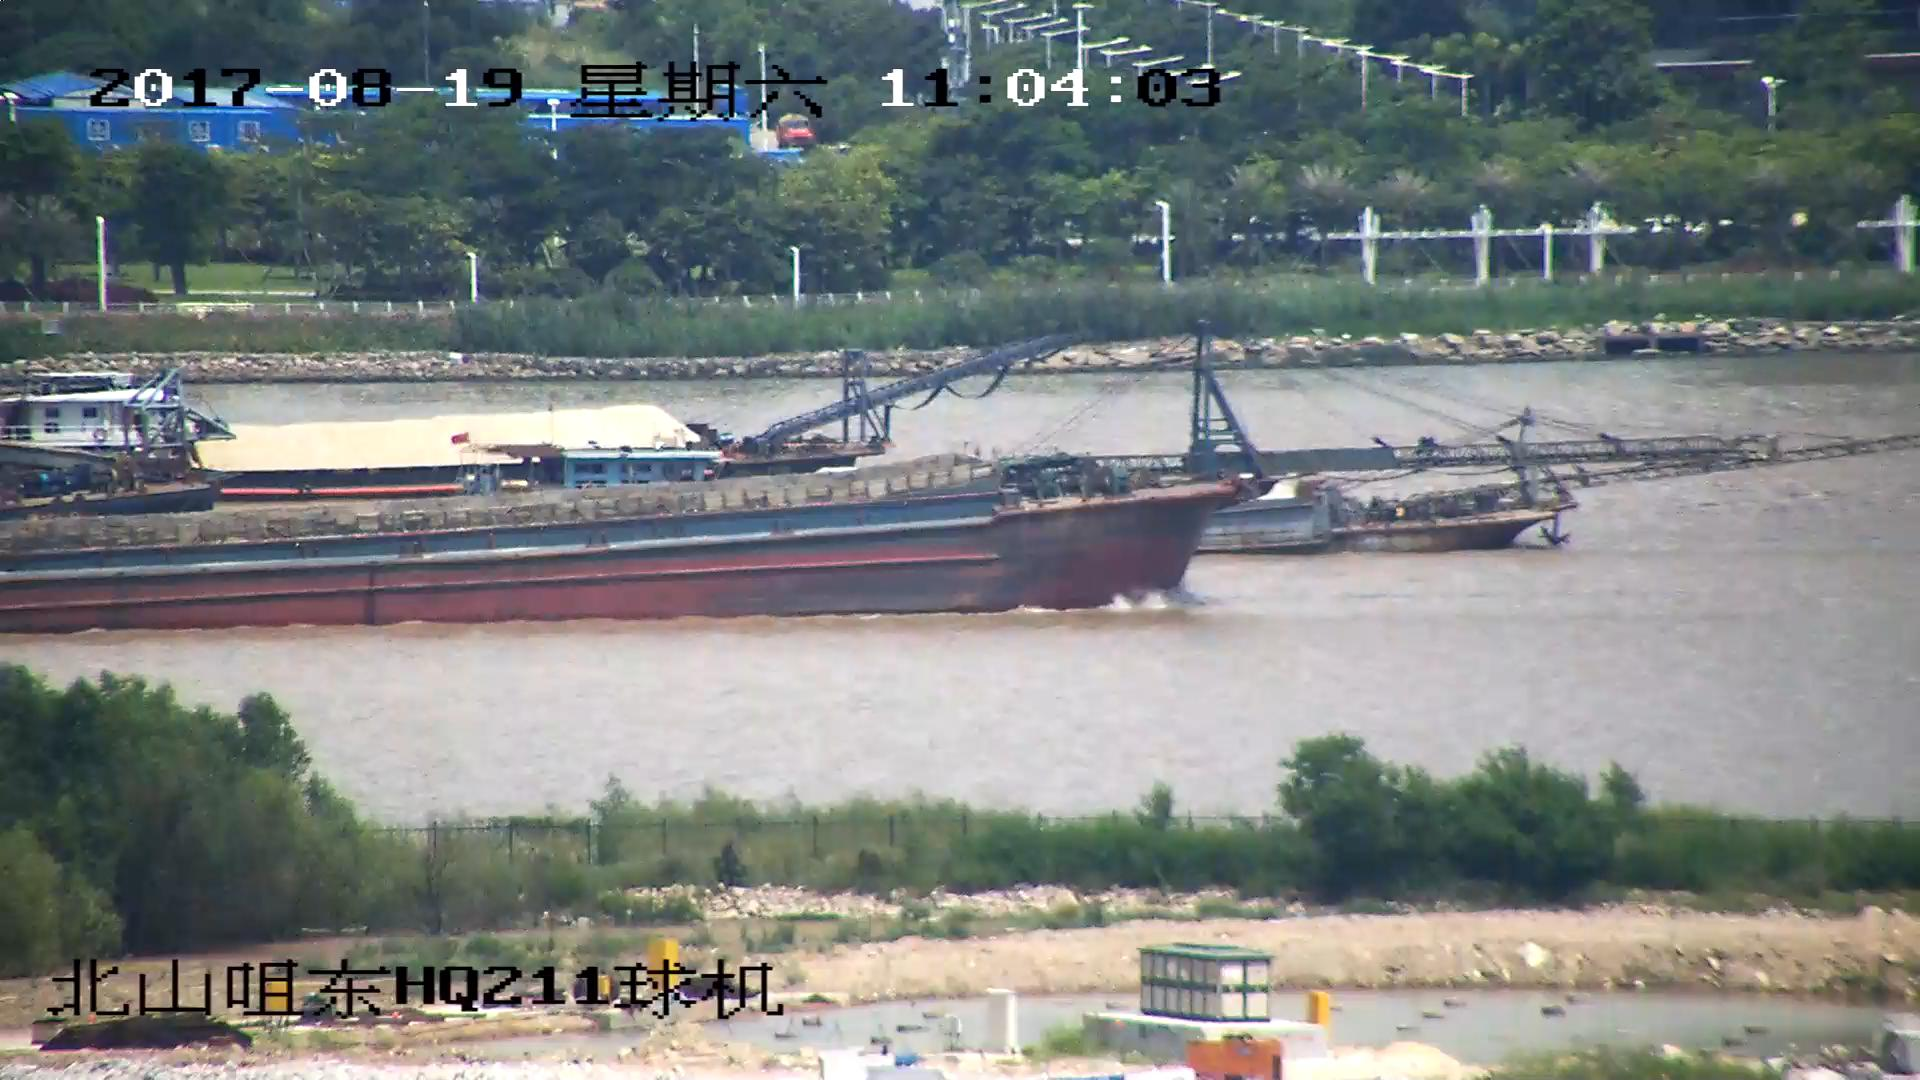bulk cargo carrier: (1, 338, 1718, 641)
ore carrier: (1, 328, 1081, 489), (1135, 430, 1912, 557)
